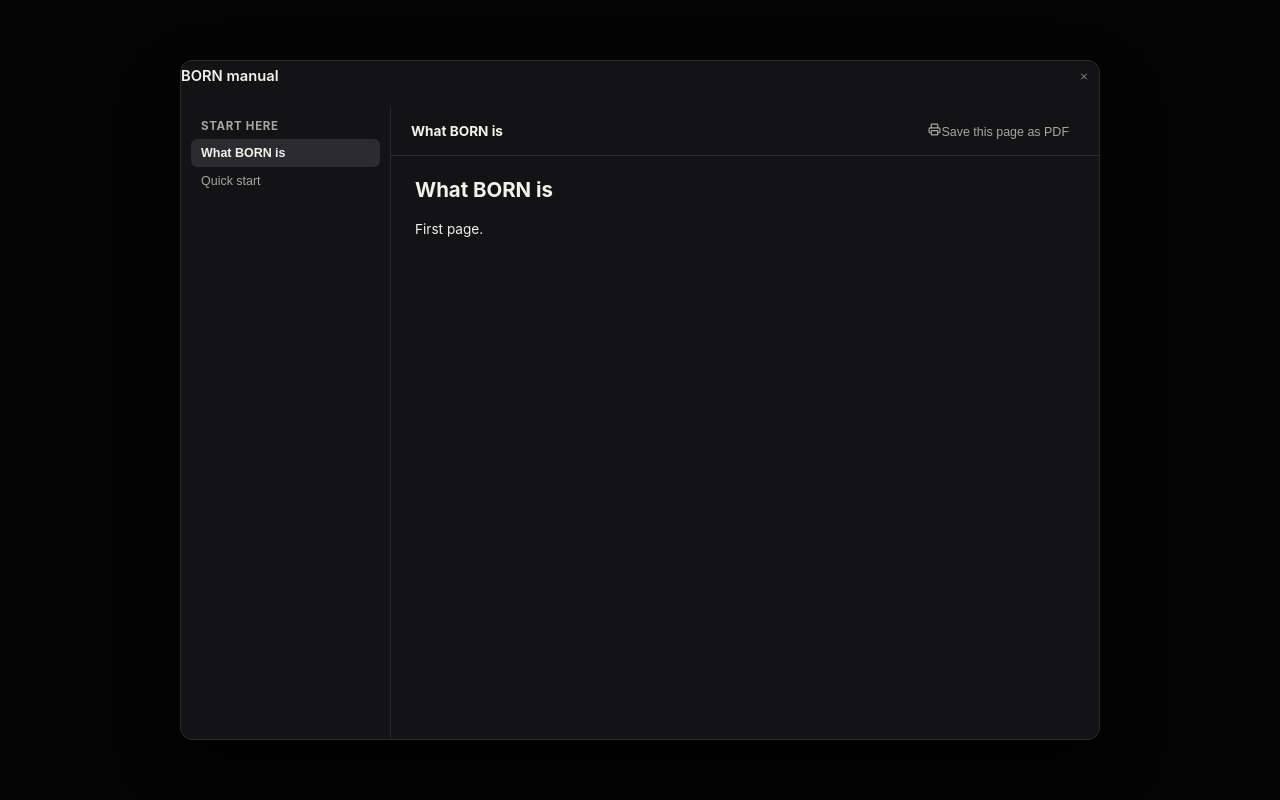
Scenario: HelpViewer navigation › renders every section heading and page from the manifest, and switches pages on click
The image size is (1280, 800).
Expected: the text "Start Here" is shown, [201,119,279,133]
Expected: the text "First page." is shown, [415,221,483,237]
What coordinates should you click on to do the following:
click the button "Quick start"
I would click on:
 (286, 181)
Its box is [191,167,380,195].
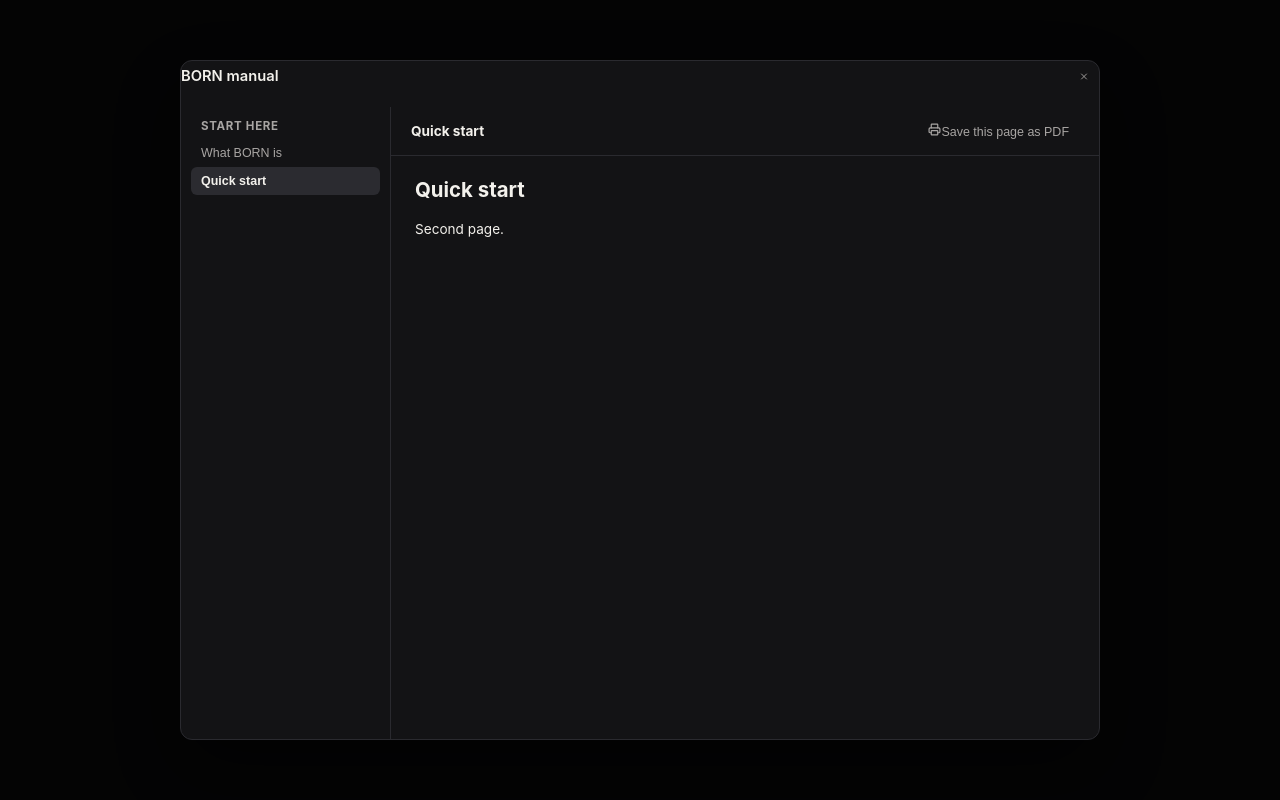
Now the text "Second page." is shown, box [415,221,504,237]
